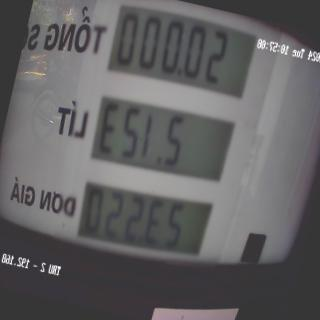screen: (57, 0, 262, 289)
